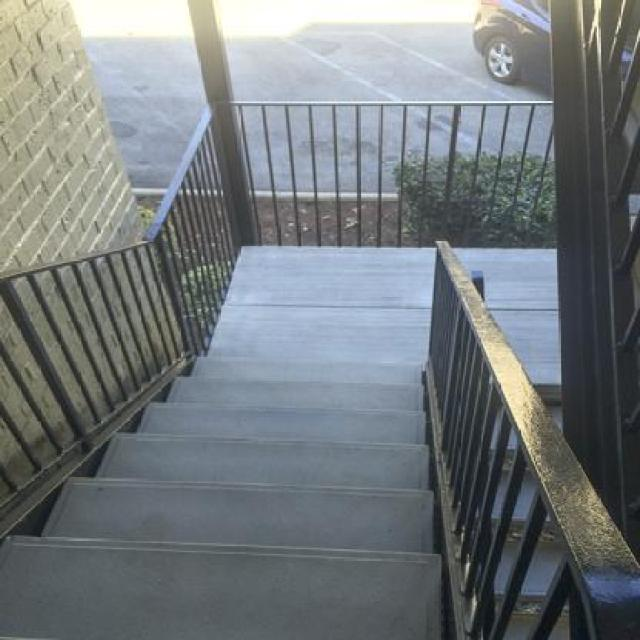stair: (1, 47, 640, 638)
